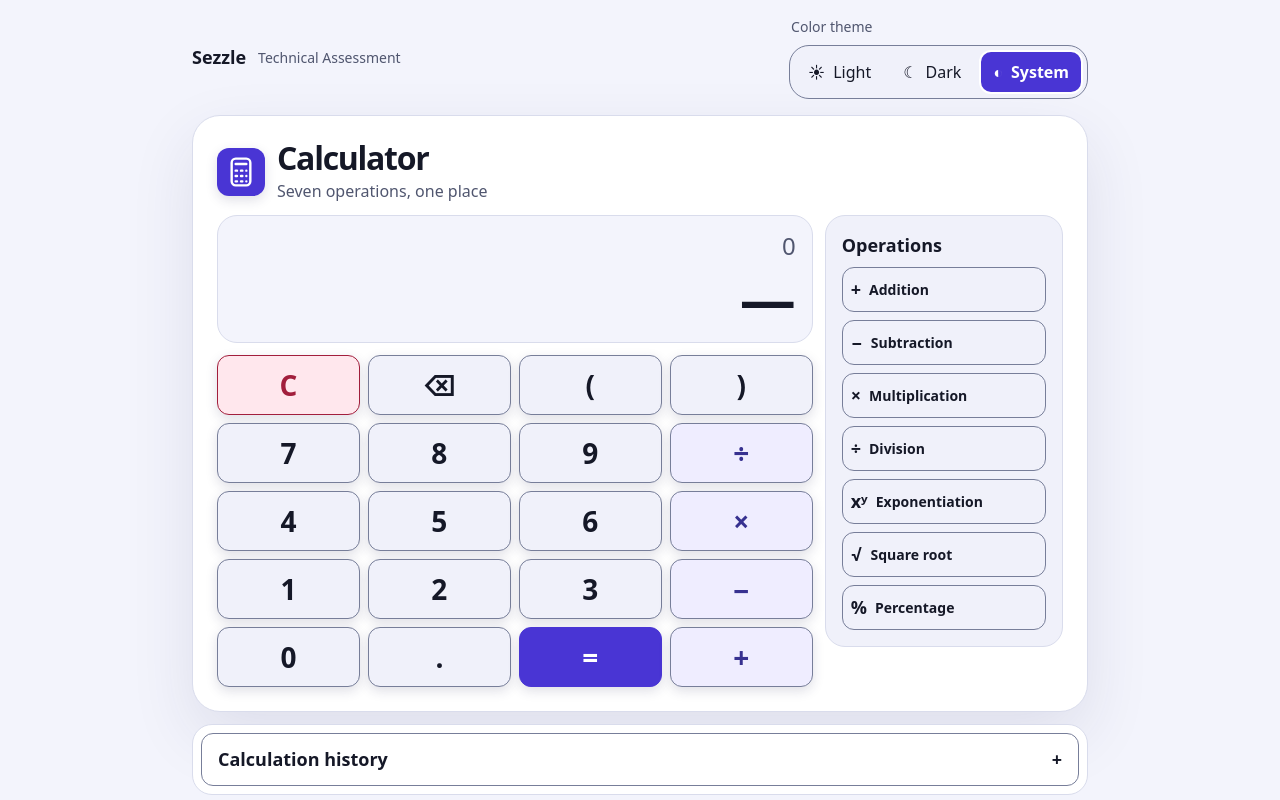
Test: functional calculator integration › evaluates once with Enter after interacting with Clear
Click the button named "Clear" at (288, 385), box [217,355,360,415]
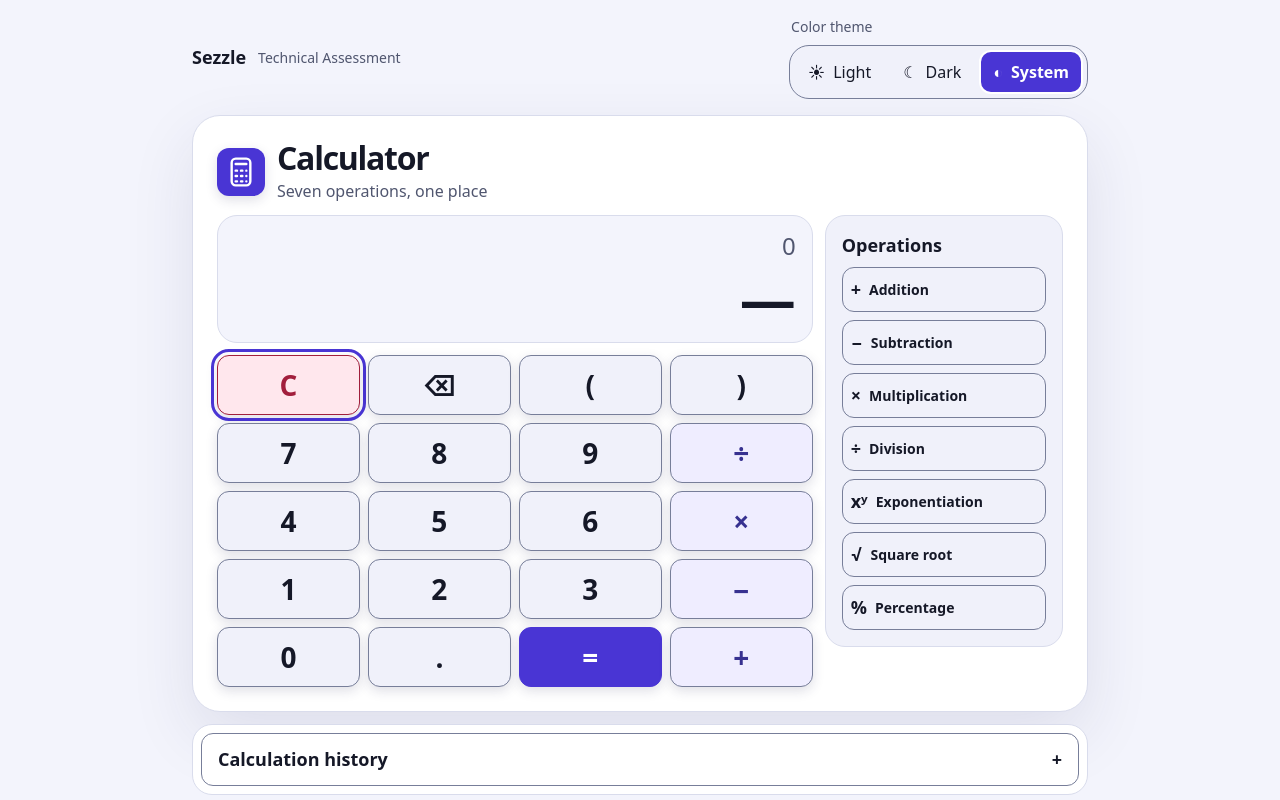
# Escape edits the expression without moving focus off the clicked button.
Type keys "{Escape}(2+3)*4"
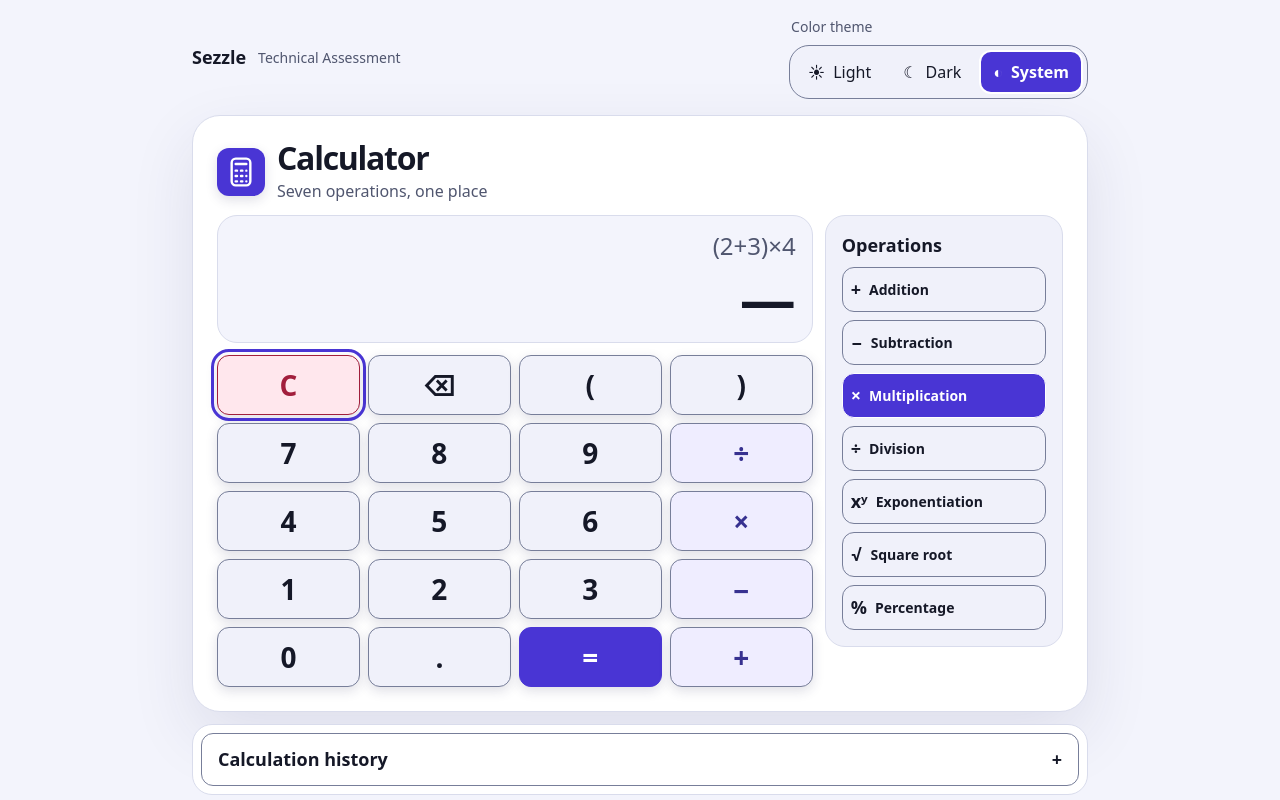
Expected: the text with test id "calculator-expression" reads "(2+3)×4", [713,229,796,262]
Press Enter
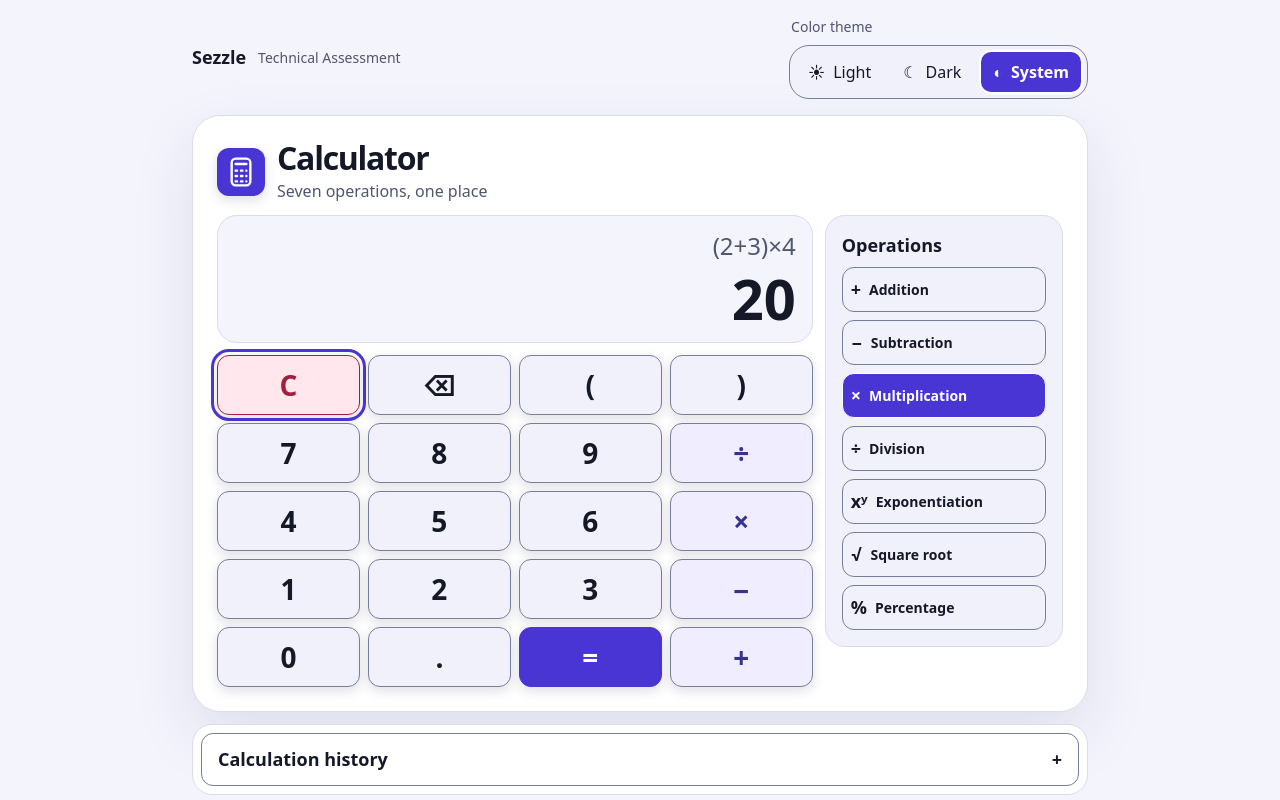
Expected: the text with test id "calculator-expression" reads "(2+3)×4", [713,229,796,262]
Expected: the text with test id "calculator-result" reads "20", [732,260,796,336]
